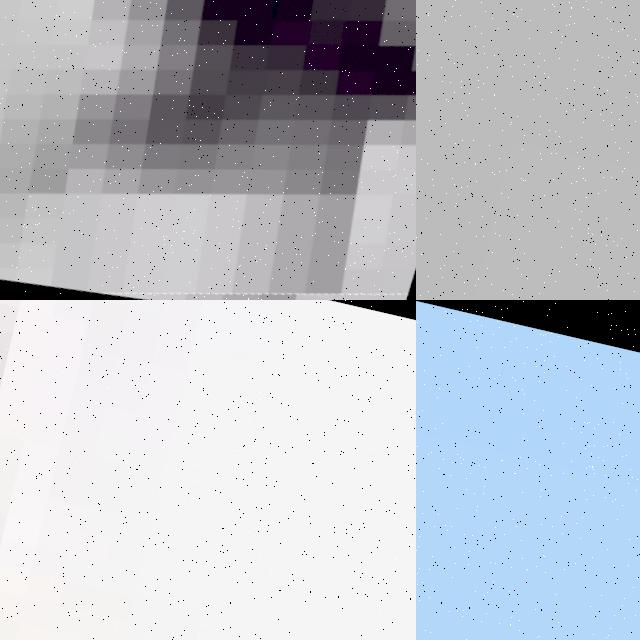drone: (0, 0, 416, 300)
